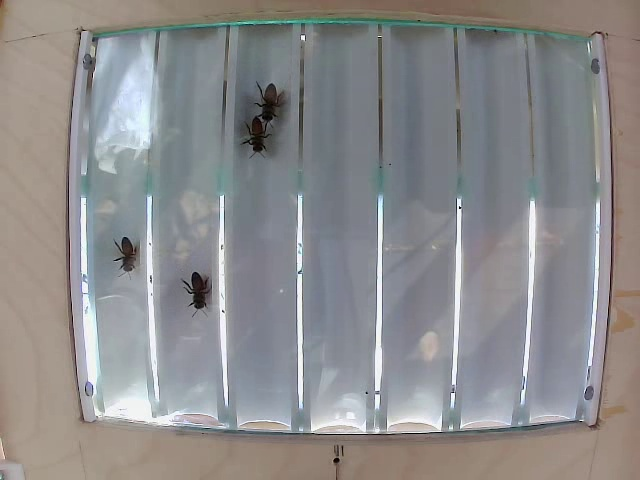bee: (237, 113, 281, 165), (185, 269, 220, 319), (109, 241, 152, 281), (262, 76, 292, 132)
